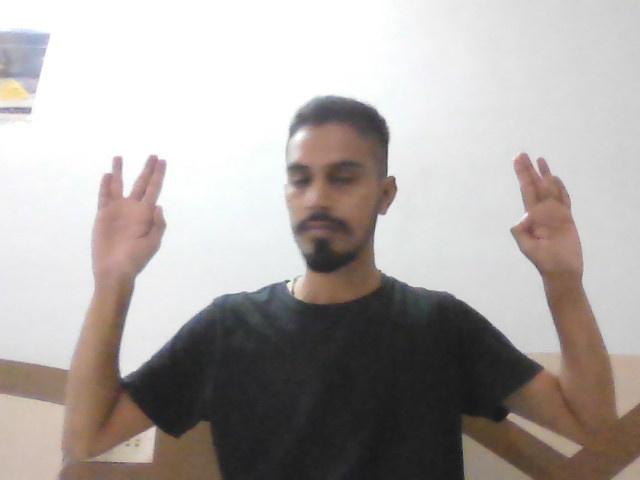LiveLong: (81, 148, 203, 288)
